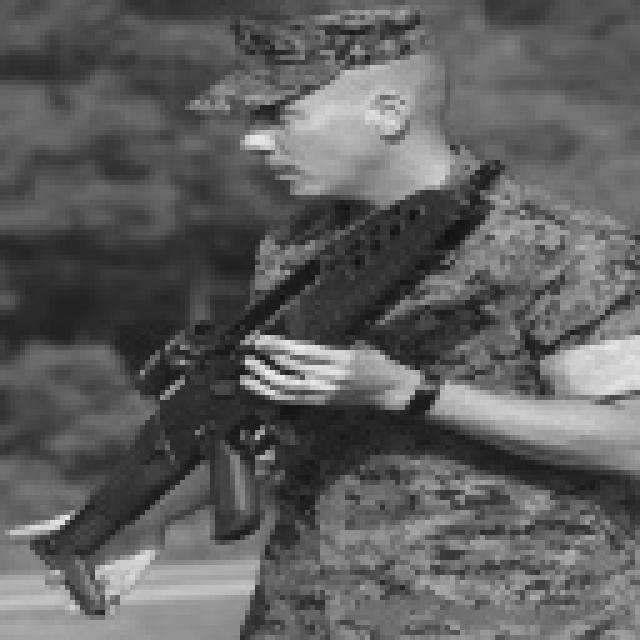Rifle: (0, 133, 508, 619)
